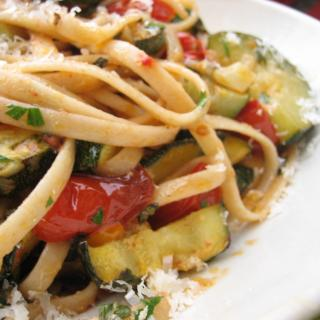tomato: (32, 163, 156, 243), (154, 165, 224, 223), (236, 98, 284, 152)
